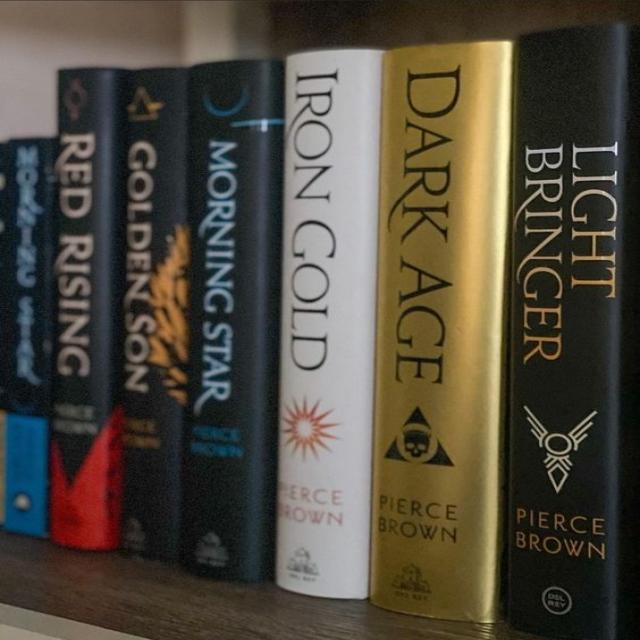book: (370, 42, 512, 625), (499, 27, 621, 640), (277, 48, 376, 599), (177, 56, 263, 581), (115, 65, 180, 561), (49, 65, 105, 548), (2, 139, 57, 539)
